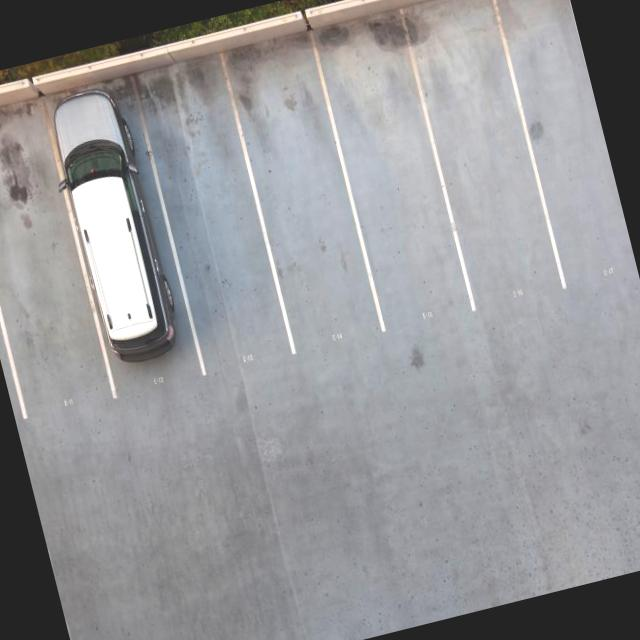car: (40, 78, 211, 406)
free: (307, 8, 479, 336), (220, 31, 390, 358), (128, 56, 300, 379), (400, 0, 571, 318), (0, 99, 122, 429)
